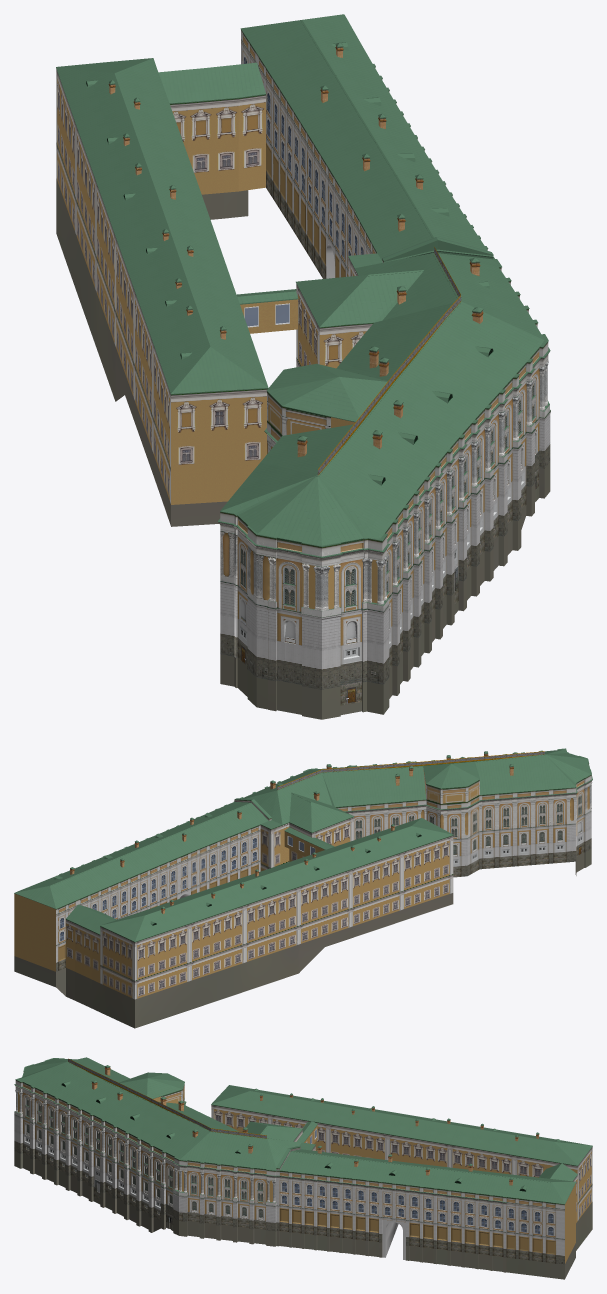
The picture shows the model from 3 angles, top to bottom: view 1: azimuth 30°, elevation 25°; view 2: azimuth 150°, elevation 25°; view 3: azimuth 270°, elevation 25°; orthographic projection. The views are drawn at different scales.
Visible parts, largest first — view 1: 01080-50@87114; view 2: 01080-50@87114; view 3: 01080-50@87114.
Part boxes in pixels (x1,y1,x2,y2): 01080-50@87114: (56,14,550,719); 01080-50@87114: (14,748,592,1028); 01080-50@87114: (14,1057,592,1279).
Bounding box in the file's own units: 93.39 × 32.85 × 155.
2 materials, 2 textured.
